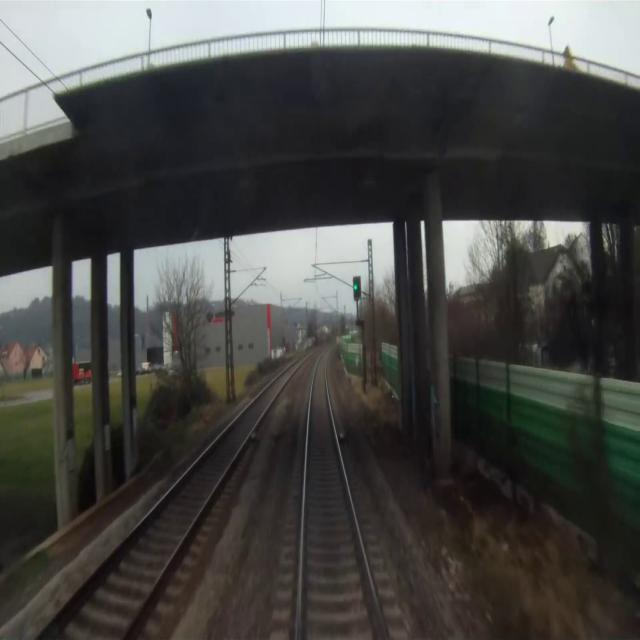rail-track: (36, 362, 299, 639), (302, 348, 383, 639)
